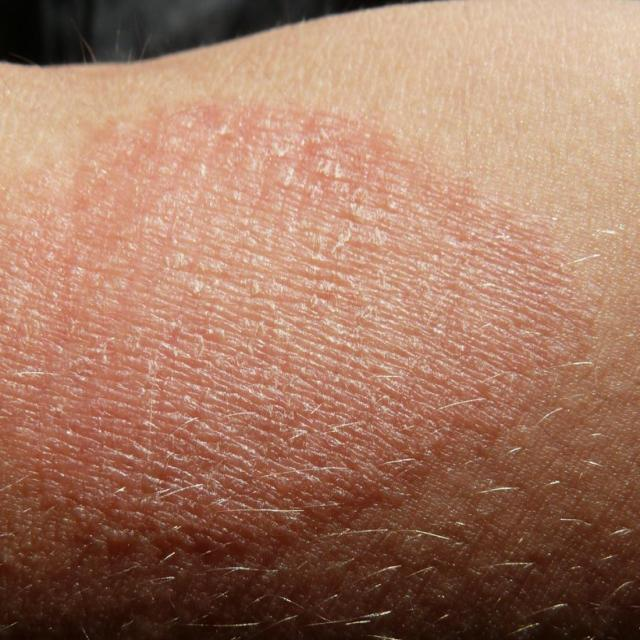Dry-Skin: (0, 106, 593, 581)
